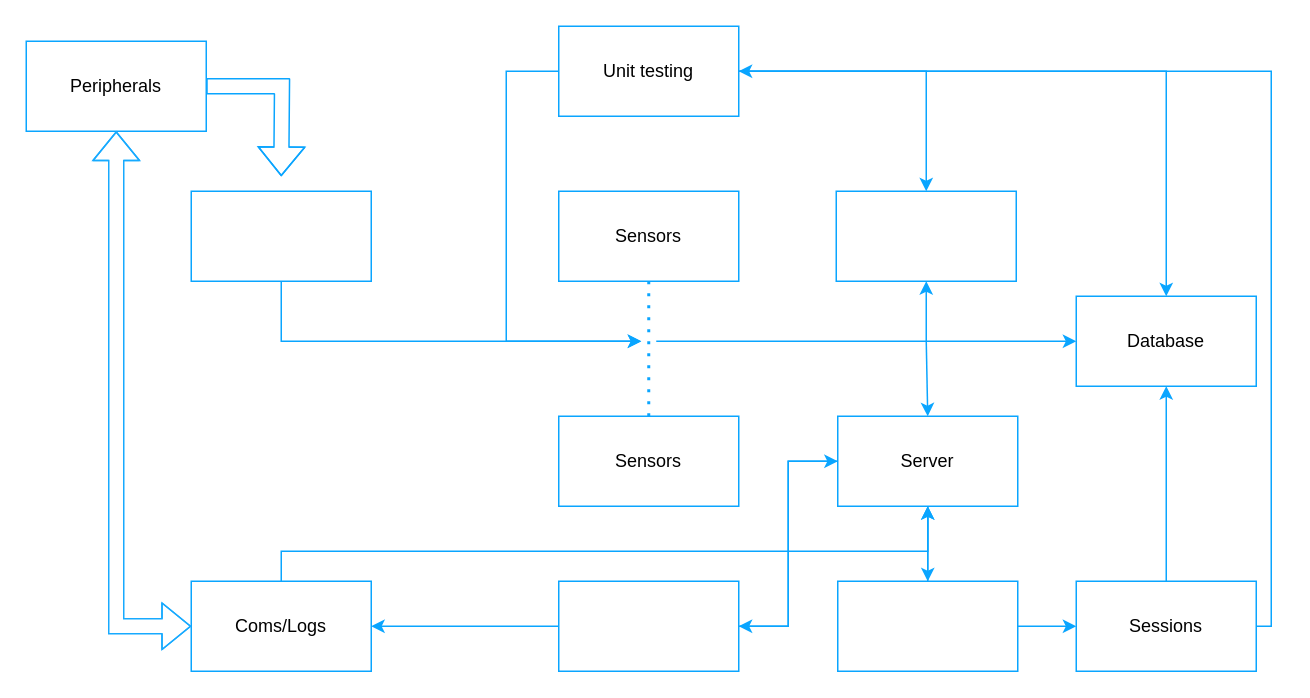
Image size: 1310x698. Some labels were removed from this diagram. The centre of each missing label's shape, as x and y in pixels:
Comands: point (648, 625)
Garfana: point (925, 235)
Port listeners: point (280, 235)
Webpage: point (927, 625)
